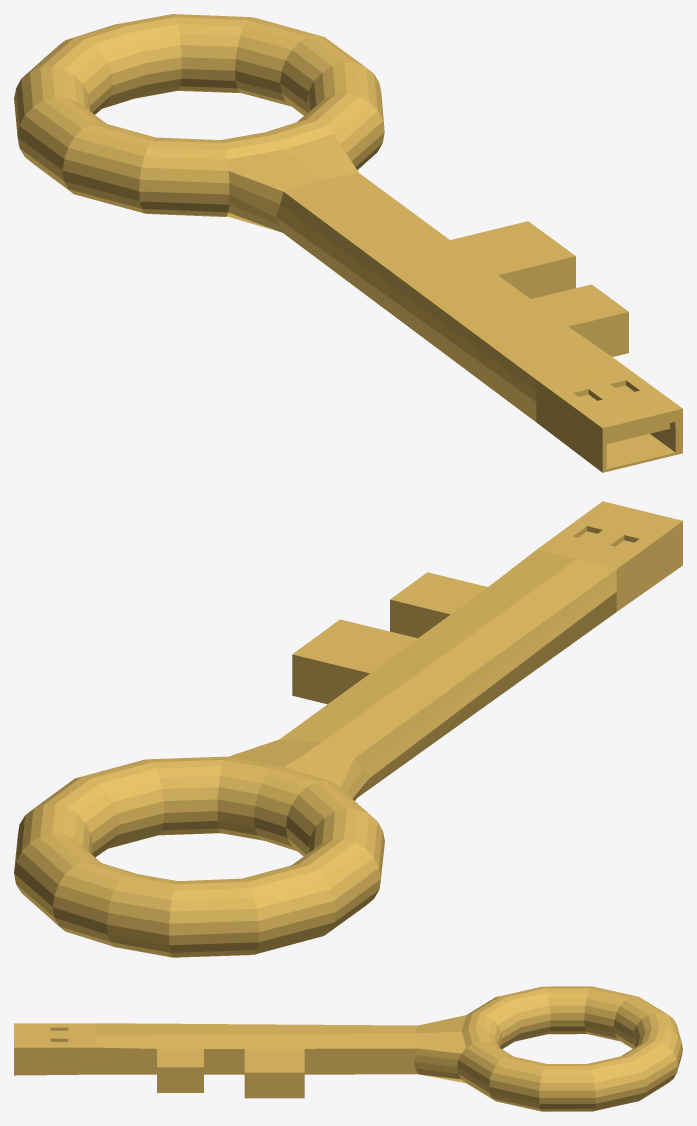
Rendered from usb.gltf.
3 renders of one model, top to bottom at view 1: azimuth 30°, elevation 25°; view 2: azimuth 150°, elevation 25°; view 3: azimuth 270°, elevation 25°, orthographic. The views are drawn at different scales.
Visible parts, largest first — view 1: usb; view 2: usb; view 3: usb.
Part boxes in pixels (box(x1,y1,x2,y2)): usb: box(14, 14, 682, 472); usb: box(14, 501, 682, 957); usb: box(14, 986, 682, 1111).
Size of the model in its own units: 0.237 by 0.0506 by 0.6911.
